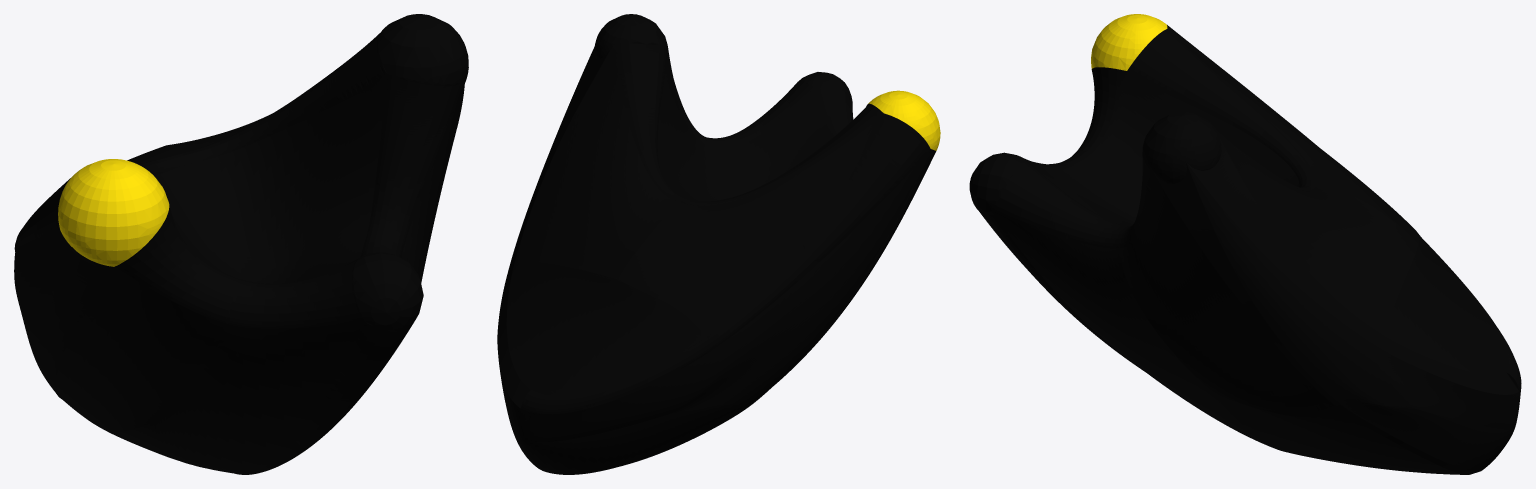
The model's file is fem_2_head_shell.gltf.
The picture shows the model from 3 angles, left to right: view 1: azimuth 30°, elevation 25°; view 2: azimuth 150°, elevation 25°; view 3: azimuth 270°, elevation 25°; orthographic projection. The views are drawn at different scales.
Parts seen in each view (by area): view 1: TransformZUpToYUp; view 2: TransformZUpToYUp; view 3: TransformZUpToYUp.
Boxes of the visible parts, x1,y1,x2,y2 form: TransformZUpToYUp: (14, 14, 468, 474); TransformZUpToYUp: (497, 14, 940, 474); TransformZUpToYUp: (969, 14, 1521, 474).
Size of the model in its own units: 18.12 by 18.32 by 23.7.
